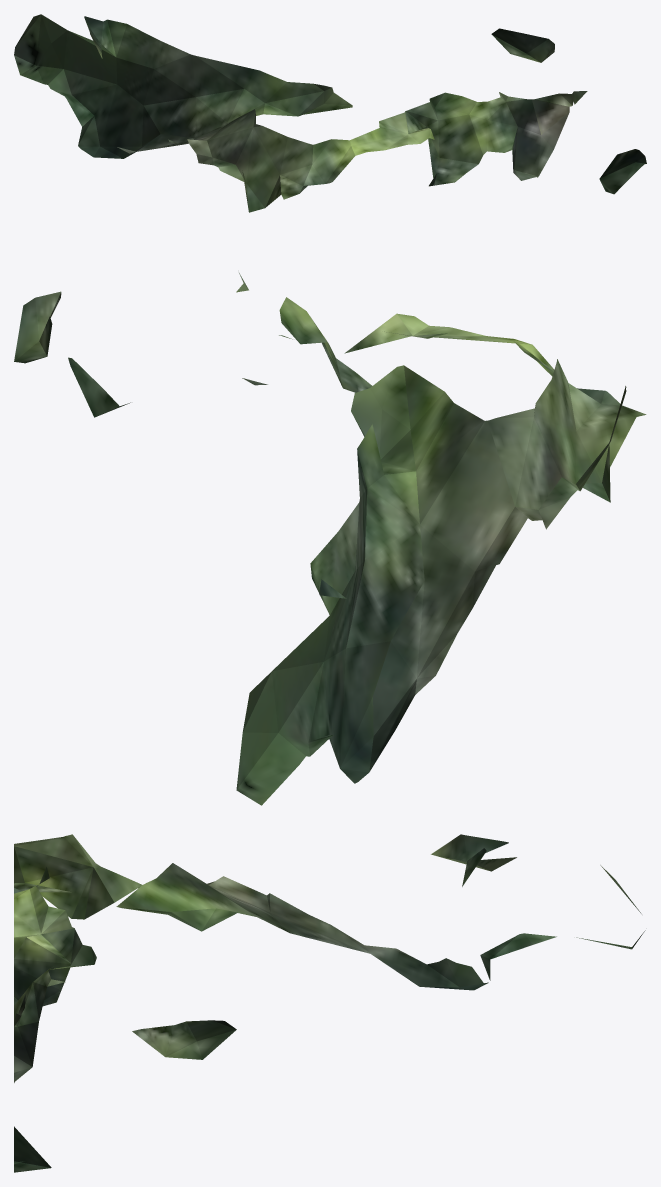
3 renders of one model, top to bottom at view 1: azimuth 30°, elevation 25°; view 2: azimuth 150°, elevation 25°; view 3: azimuth 270°, elevation 25°, orthographic. The views are drawn at different scales.
Size of the model in its own units: 22.65 by 7.16 by 27.13.
1 material, 1 textured.
